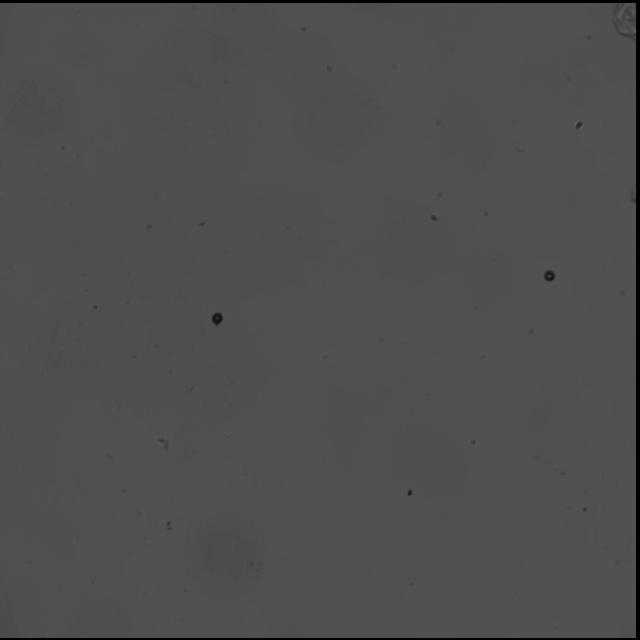microbeads: (211, 308, 223, 324), (544, 271, 556, 285)
